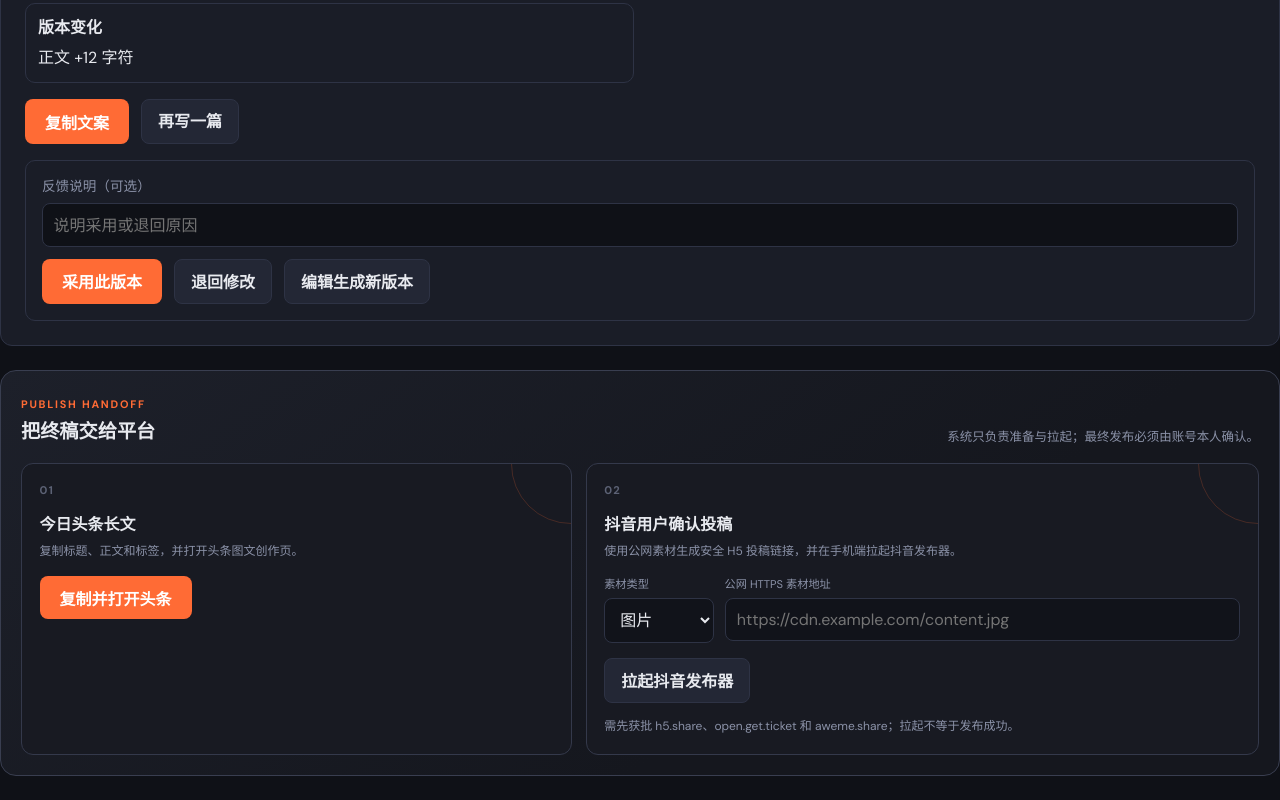
Test case: TaskDetail assisted publishing › reports preparation API errors without claiming success
(page scrolled)
Click the button "复制并打开头条" at (116, 598), box x1=40 y1=576 x2=192 y2=619
(page scrolled)
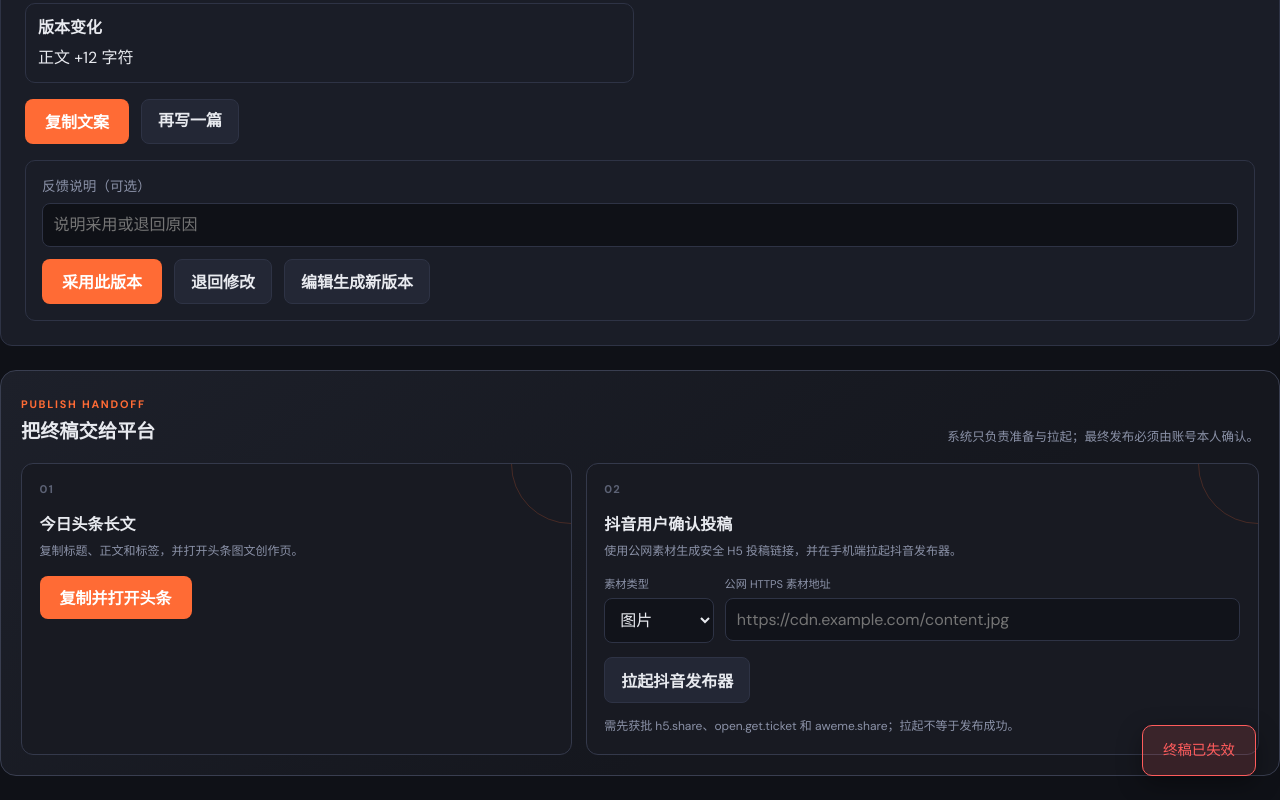
Result: the text "终稿已失效" is shown at x1=1142 y1=725 x2=1256 y2=776
